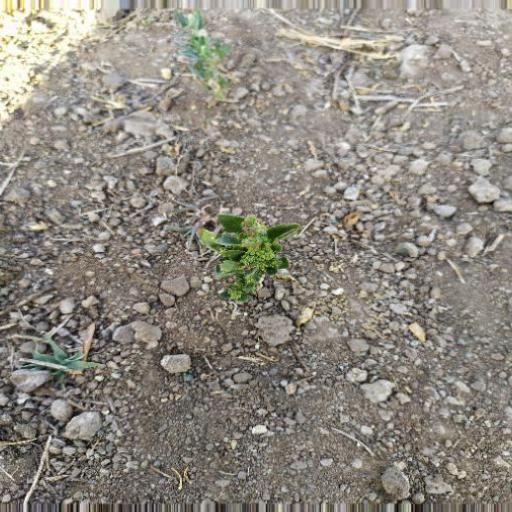weed: (207, 198, 297, 308)
